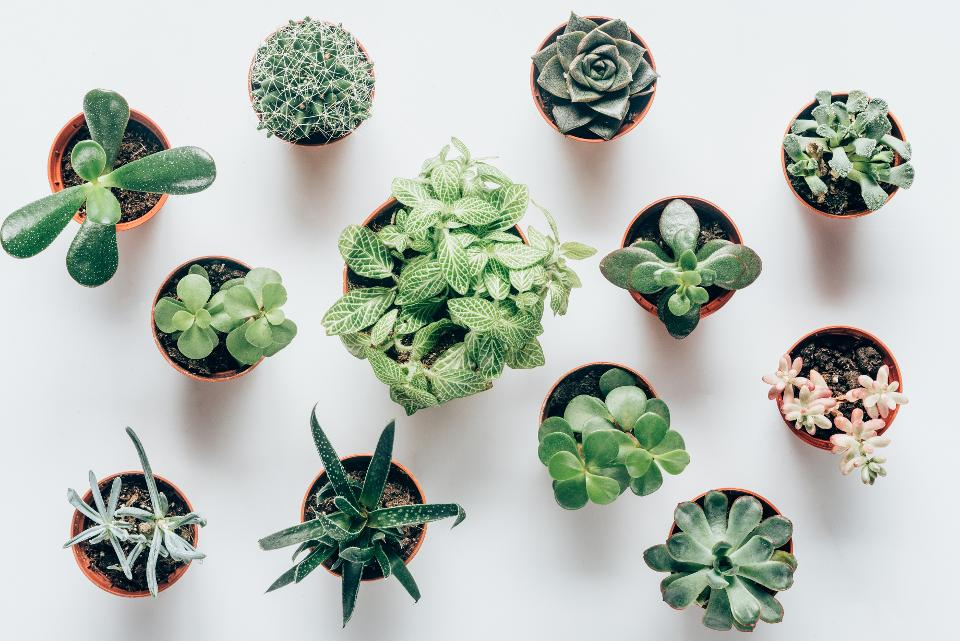plant: (337, 143, 573, 388), (259, 417, 467, 622), (1, 88, 217, 263), (60, 426, 209, 600), (759, 326, 913, 487), (599, 194, 765, 342), (537, 361, 690, 513), (643, 487, 798, 633), (151, 256, 298, 381), (780, 87, 918, 220), (529, 9, 662, 145), (247, 15, 377, 147)
